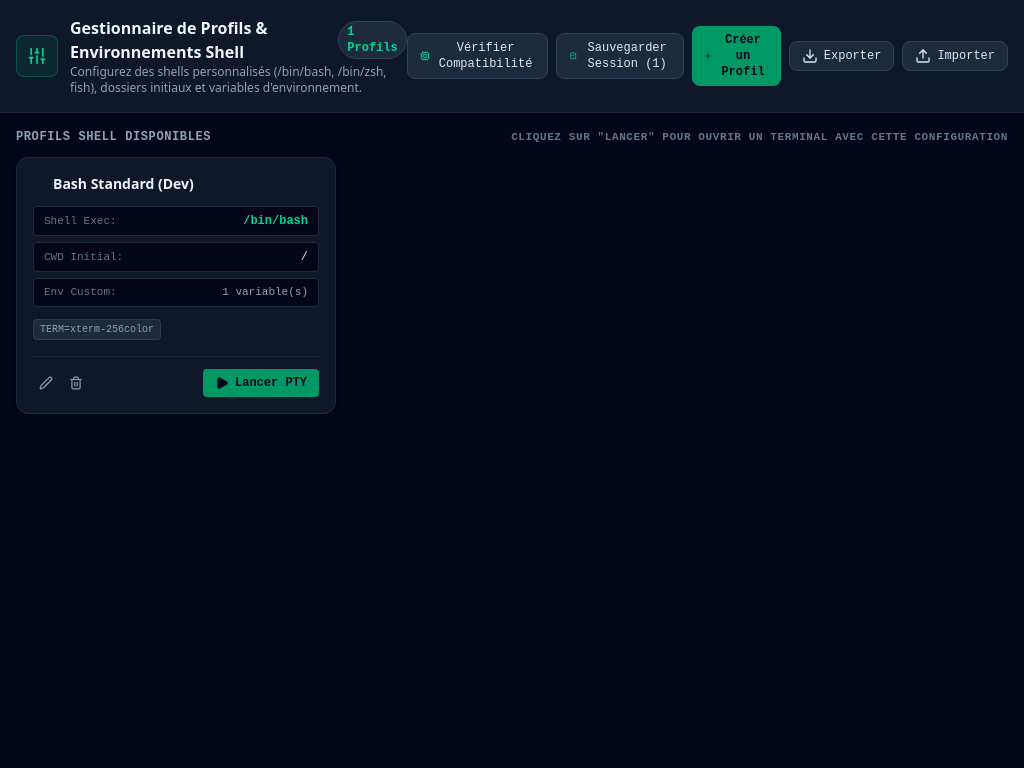
ProfileManager Component › opens the edit modal pre-filled with the profile values
Click the button named "Éditer le profil Bash Standard" at (46, 383), box top-left (33, 370), bottom-right (59, 396)
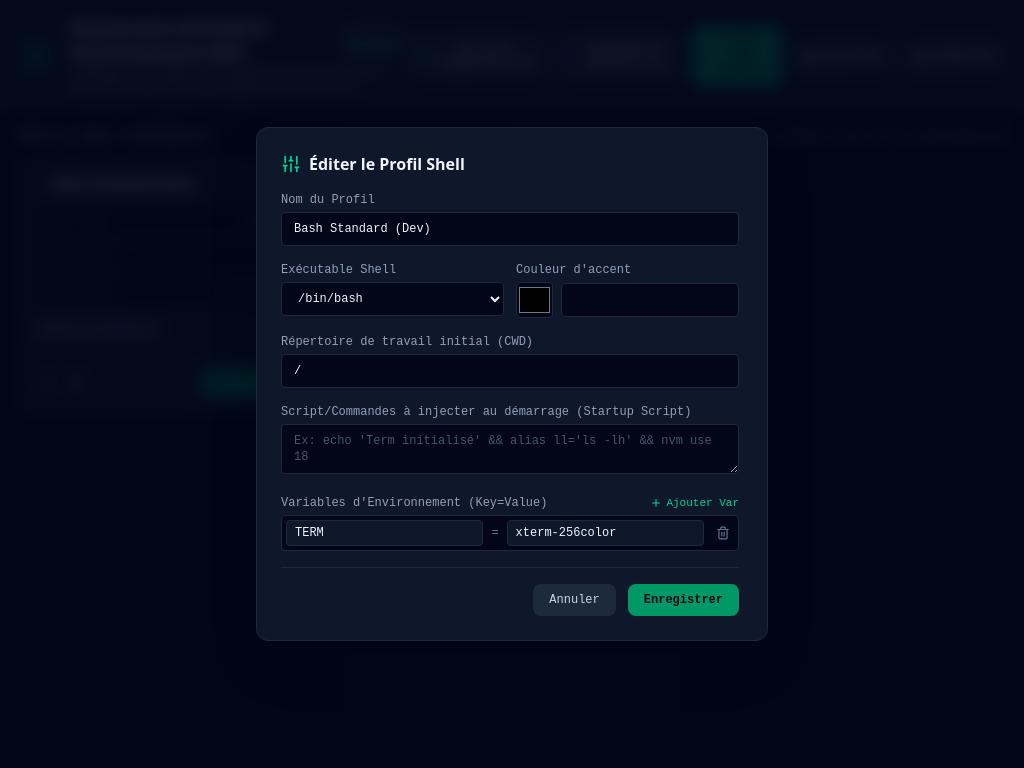
Now the field with placeholder "Ex: Python Data Science" below "Nom du Profil" holds "Bash Standard (Dev)", box top-left (281, 212), bottom-right (739, 246)
Now the dropdown is shown, box top-left (281, 282), bottom-right (504, 316)
